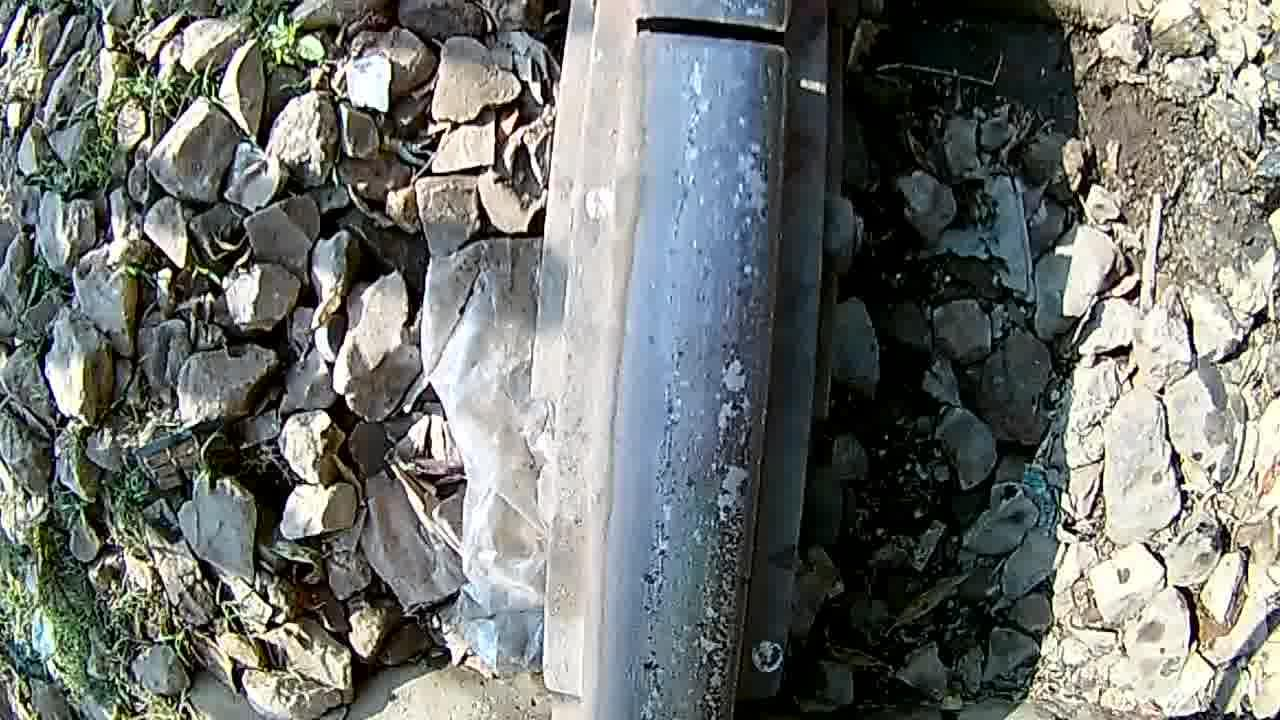clip_missing: (614, 71, 788, 720)
